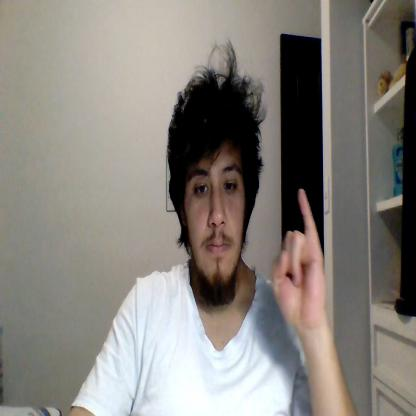I: (272, 188, 326, 335)
